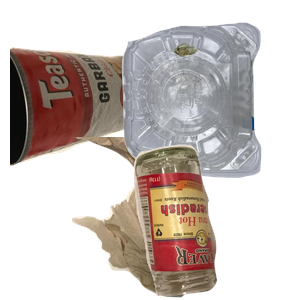glass: (131, 142, 300, 300)
metal: (10, 44, 151, 203)
plastic: (119, 20, 300, 190)
trash: (66, 137, 263, 300)
